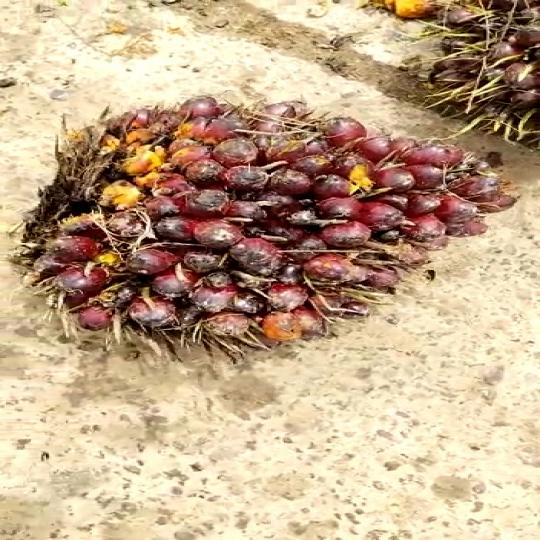kurang masak: (22, 76, 540, 357)
